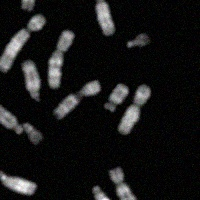chromosome: (0, 13, 45, 72), (54, 80, 101, 120), (118, 83, 151, 134), (47, 28, 74, 87), (0, 171, 36, 195), (21, 58, 41, 101), (94, 0, 116, 35), (0, 103, 24, 135), (104, 83, 129, 113), (109, 167, 131, 197), (21, 123, 44, 144), (87, 193, 144, 200), (128, 33, 150, 49), (91, 185, 110, 200), (0, 0, 8, 24), (20, 0, 37, 11)
